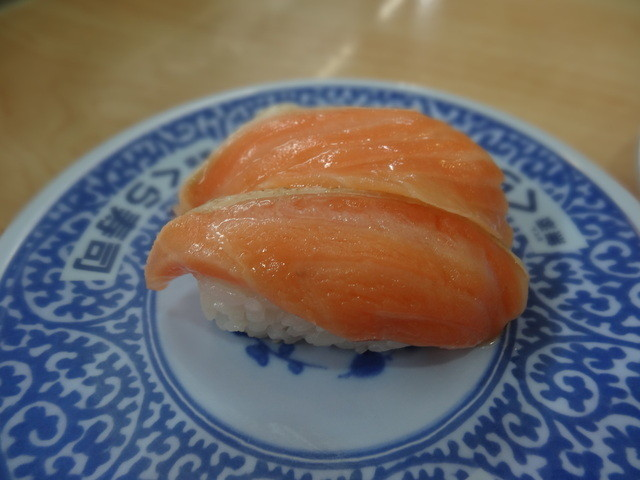salmon: (140, 188, 533, 356)
